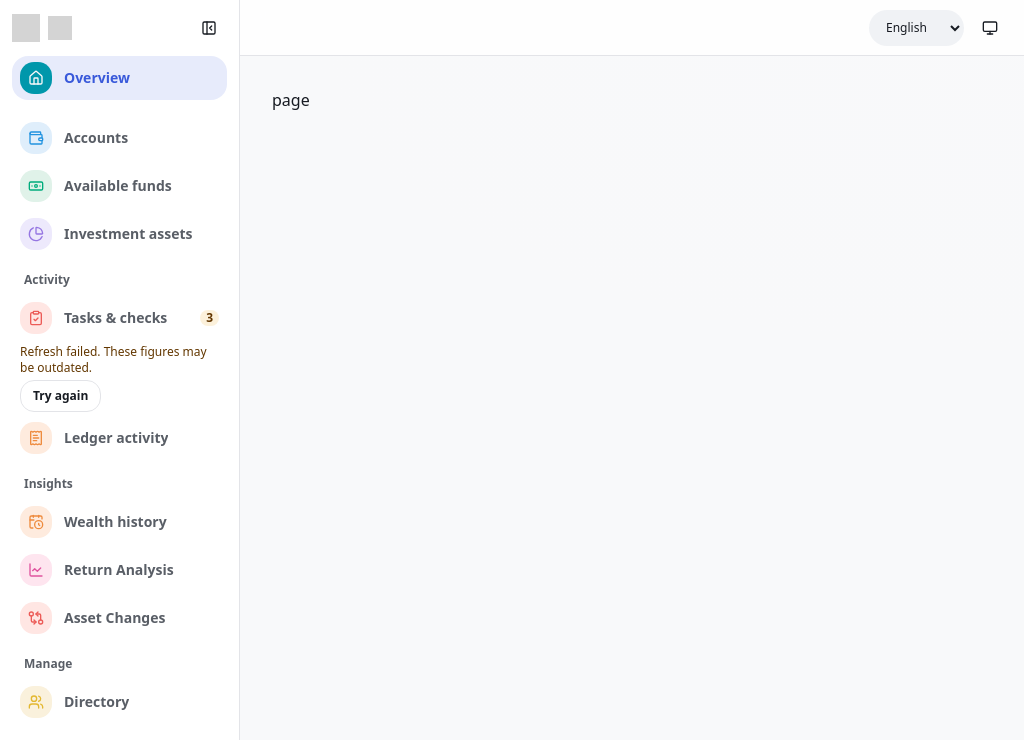
Scenario: sidebar tasks badge › keeps the cached urgent total and offers retry when a badge refresh fails
Expected: the button "Tasks & checks 3" is shown, top-left (12, 296), bottom-right (227, 340)
Expected: the text with test id "tasks-sidebar-count" reads "3", top-left (206, 309), bottom-right (213, 326)
Click the button "Try again" at (61, 396), box top-left (20, 380), bottom-right (101, 412)
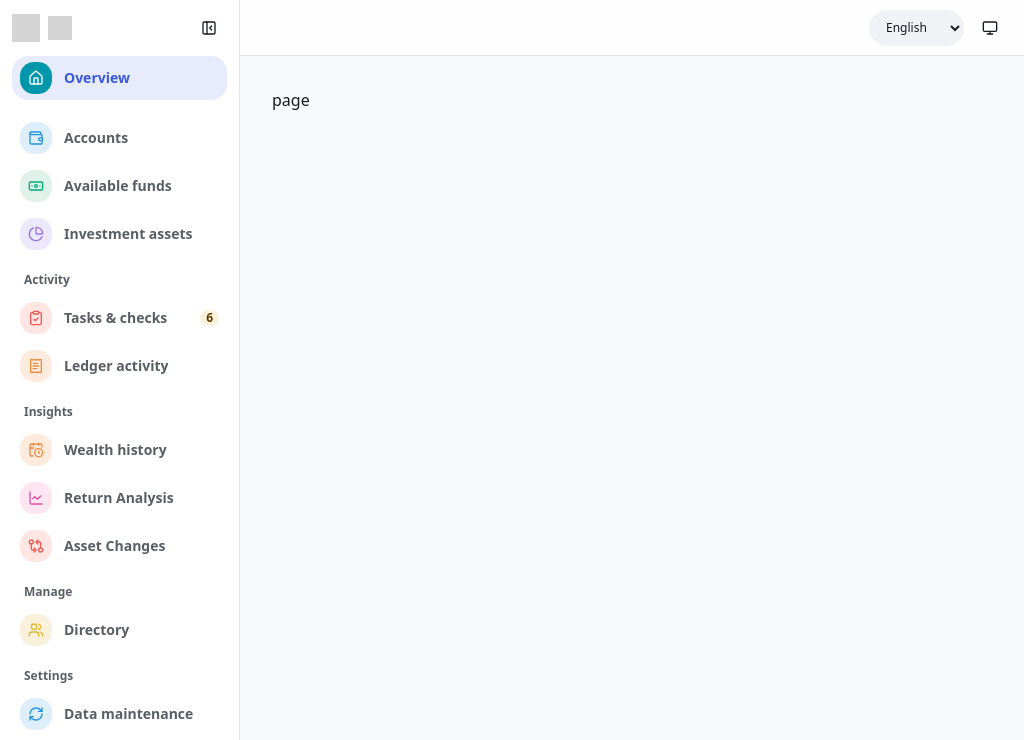
Result: the text with test id "tasks-sidebar-count" reads "6" at top-left (206, 309), bottom-right (213, 326)
Result: the text "Refresh failed. These figures may be outdated." is gone
